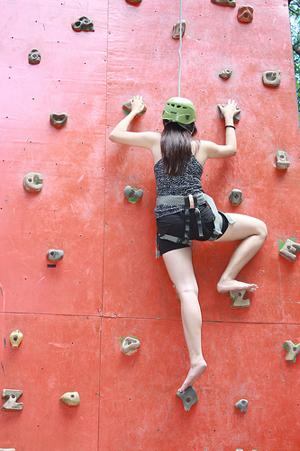person: (109, 95, 269, 395)
